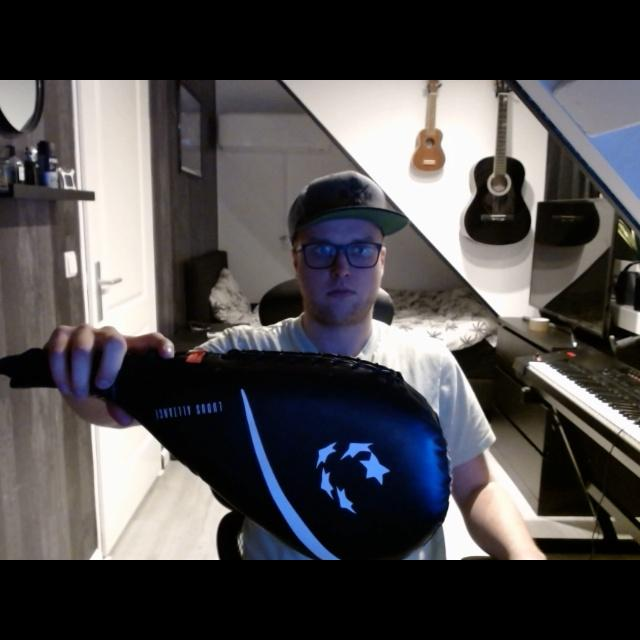paddle: (10, 346, 453, 559)
